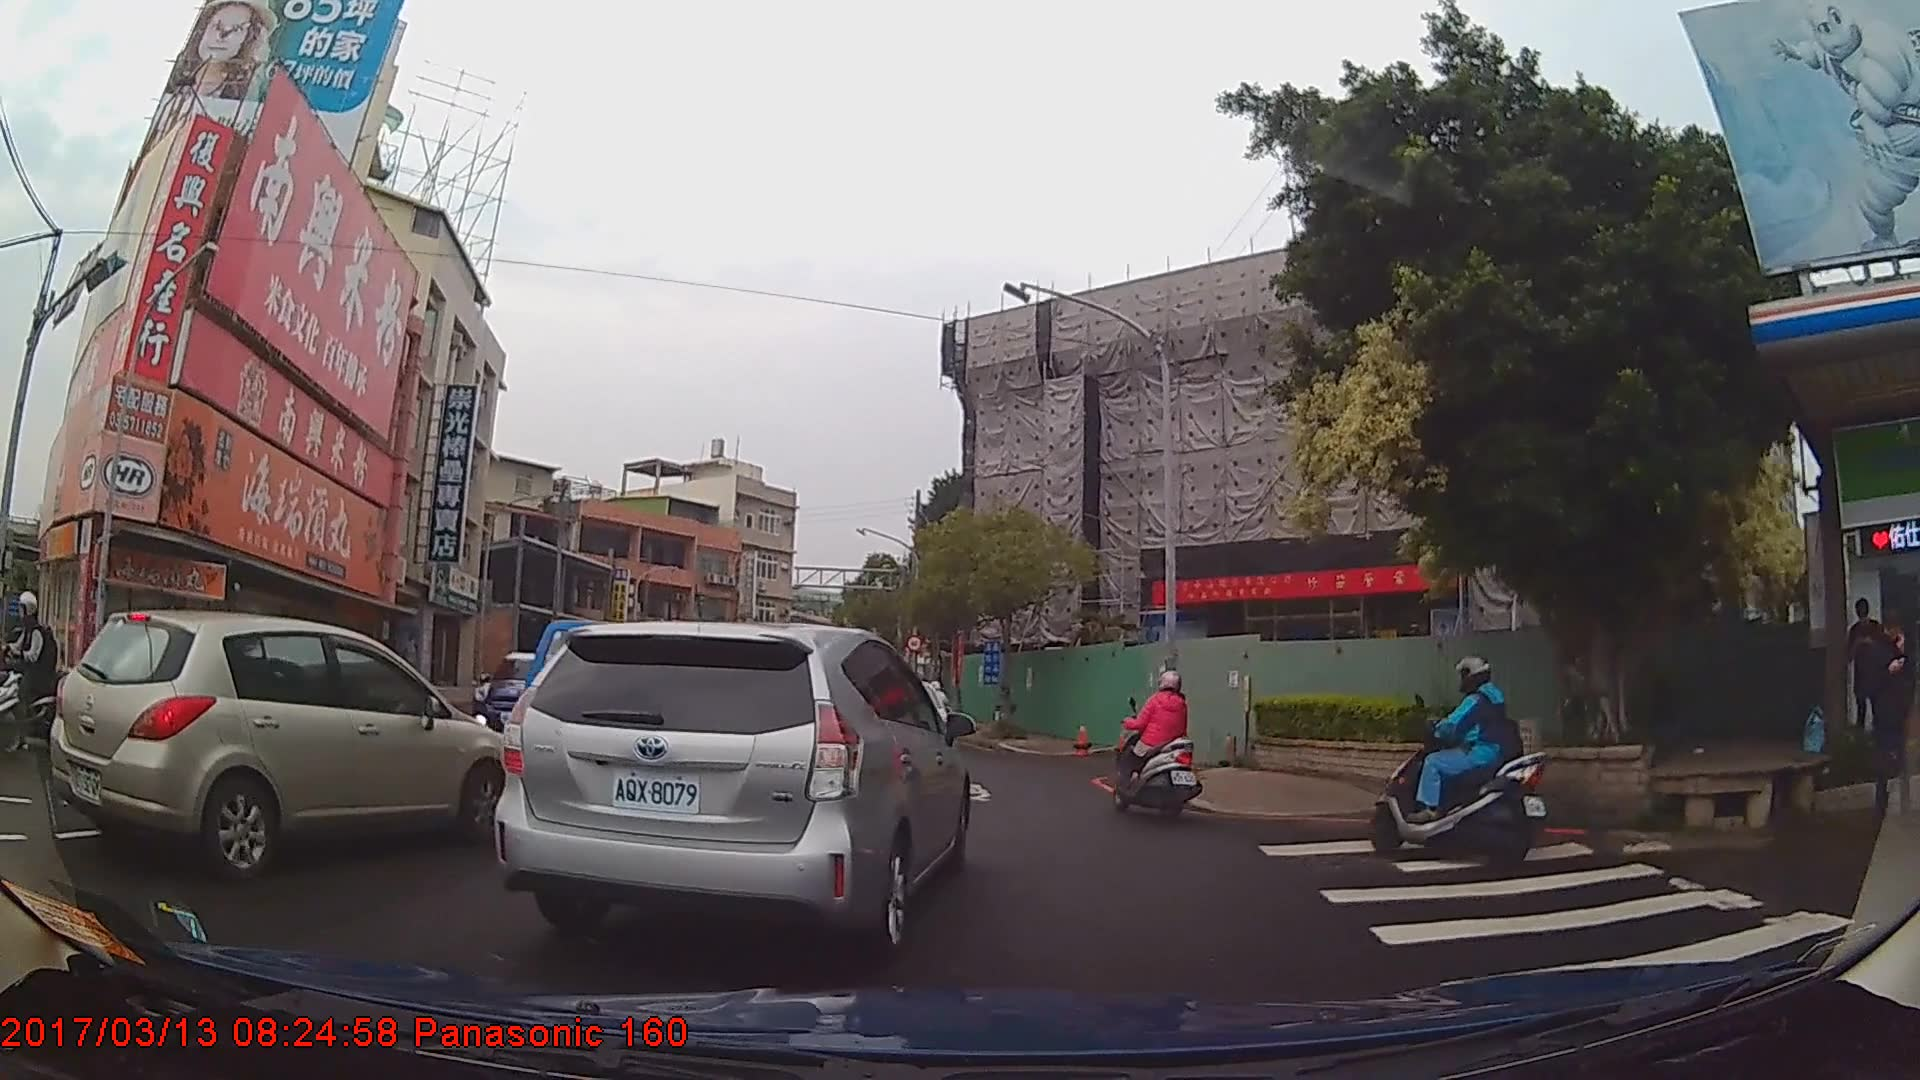pedestrian: (1863, 611, 1920, 825), (1843, 598, 1885, 736)
rider: (1376, 655, 1556, 864), (1110, 668, 1203, 822)
vehicle: (489, 621, 969, 960), (44, 609, 516, 884)
